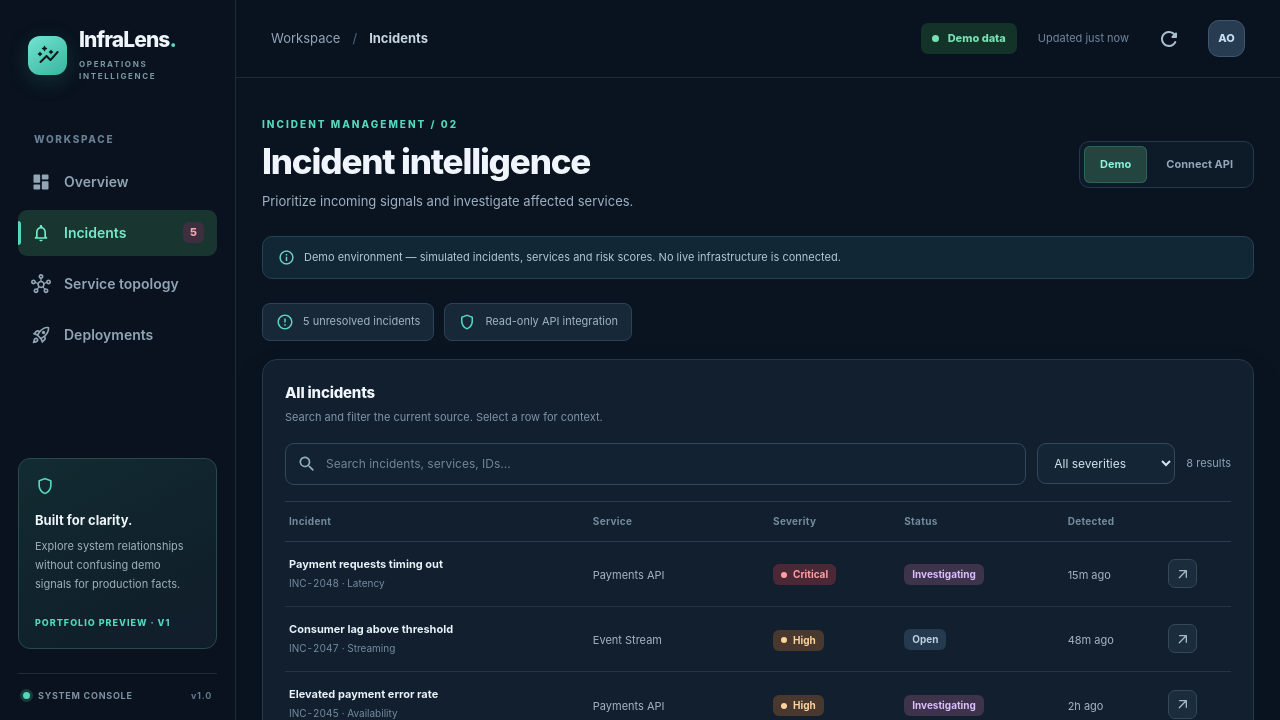
Test case: operations console › incident search narrows the visible table
The image size is (1280, 720).
Type "TLS renewal" into the field labelled "Search incidents" at {"x": 670, "y": 464}, box [326,444,1014,484]
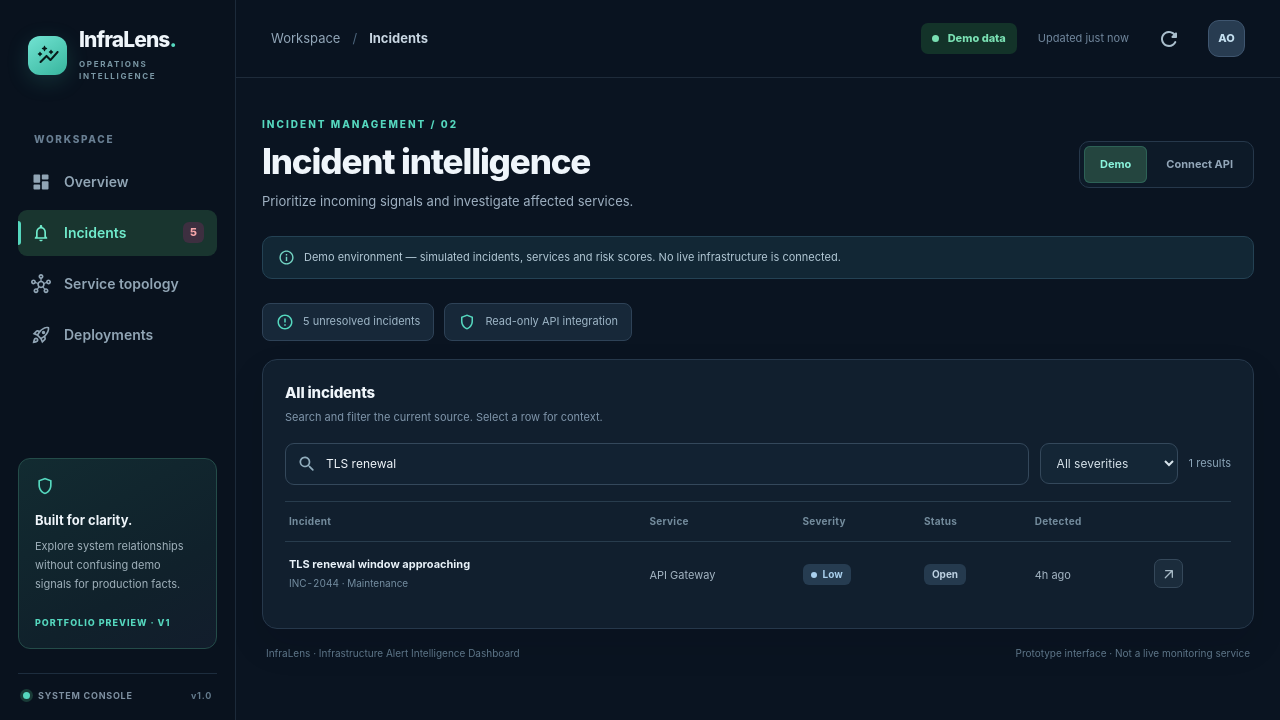
Check: the text "TLS renewal window approaching" is shown, box [289,556,470,570]
Check: the text "Payment requests timing out" is gone
